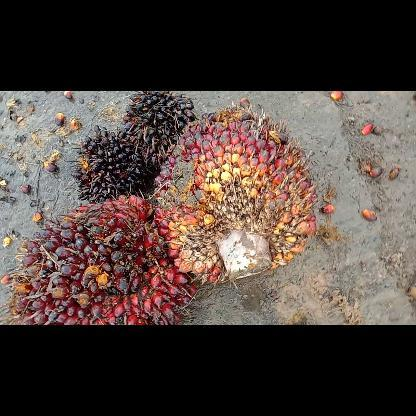TBS abnormal: (66, 122, 148, 202), (118, 91, 196, 173)
TBS masak: (151, 95, 319, 289), (10, 194, 200, 324)
